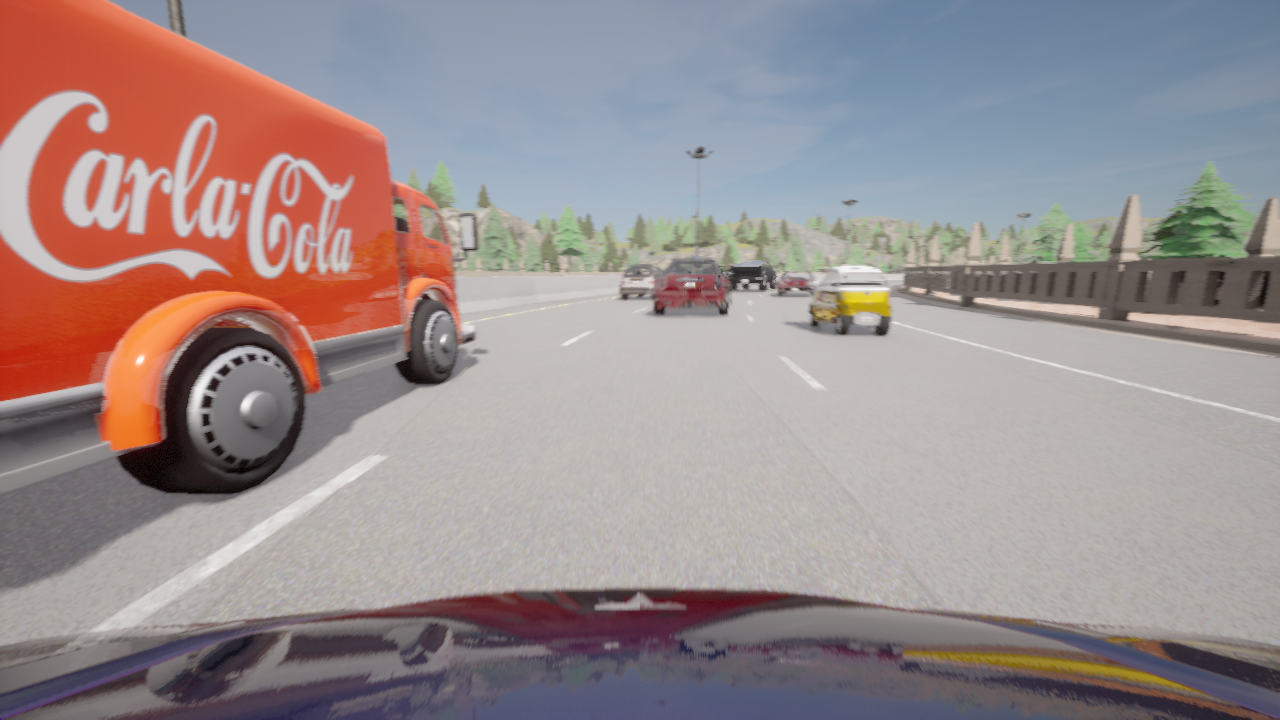cyclist: (0, 588, 1279, 719), (809, 265, 890, 336), (654, 256, 731, 316), (619, 265, 662, 299), (729, 260, 776, 291), (777, 272, 815, 296)
